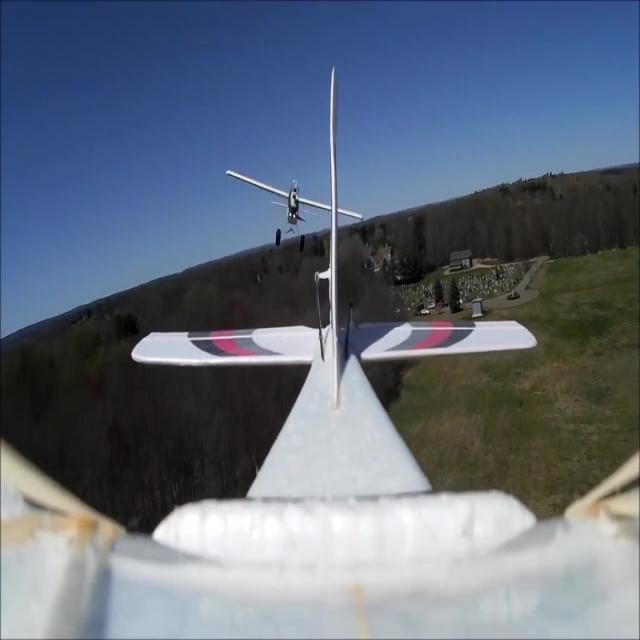iha: (229, 201, 361, 221)
